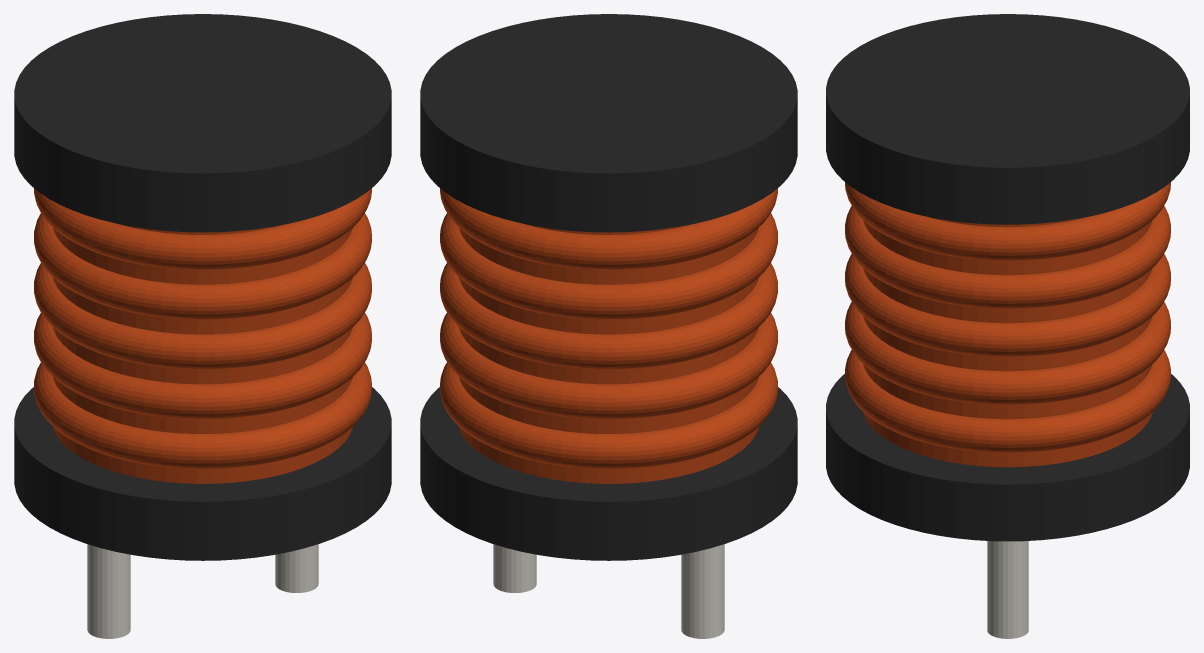
3 views of the same model, side by side, from view 1: azimuth 30°, elevation 25°; view 2: azimuth 150°, elevation 25°; view 3: azimuth 270°, elevation 25° (orthographic). The views are drawn at different scales.
Visible parts, largest first — view 1: l1_1, l1_0, l1_2; view 2: l1_1, l1_0, l1_2; view 3: l1_1, l1_0, l1_2.
Part boxes in pixels (x1,y1,x2,y2): l1_1: (14,14,391,560); l1_0: (34,188,371,483); l1_2: (87,544,318,638); l1_1: (420,14,797,560); l1_0: (440,188,777,483); l1_2: (493,544,724,638); l1_1: (826,14,1189,541); l1_0: (845,182,1170,467); l1_2: (987,541,1028,638).
Bounding box in the file's own units: 8.7 × 13.05 × 8.69.
